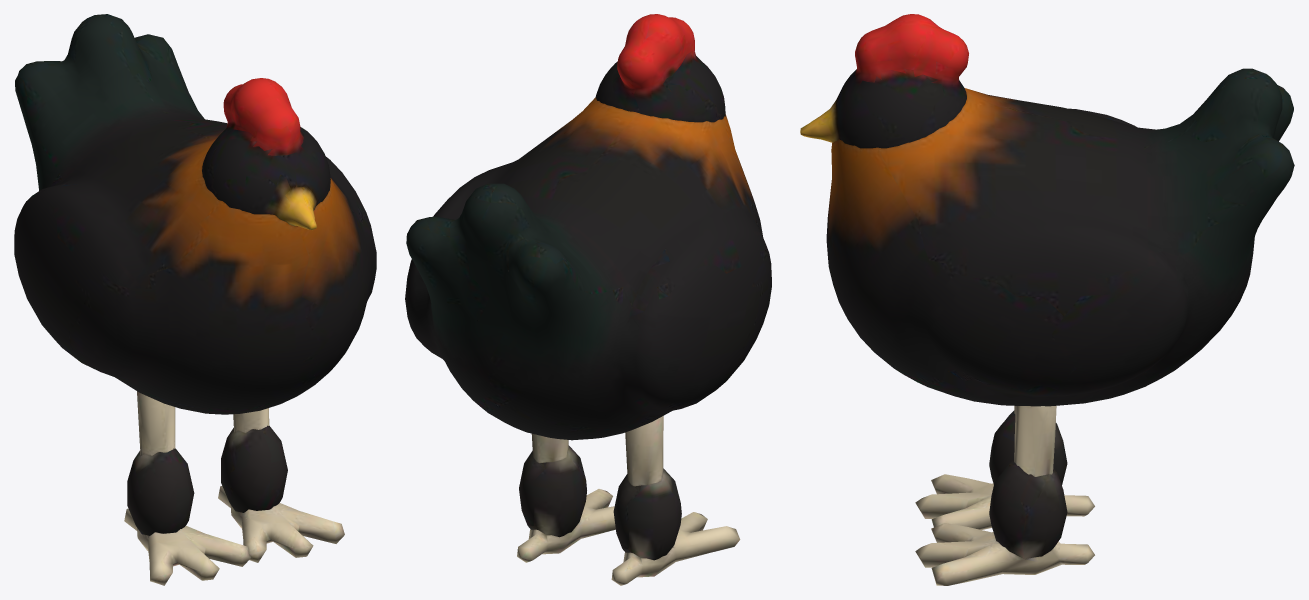
Rendered from animal_marans.glb.
The picture shows the model from 3 angles, left to right: view 1: azimuth 30°, elevation 25°; view 2: azimuth 150°, elevation 25°; view 3: azimuth 270°, elevation 25°; orthographic projection. The views are drawn at different scales.
Visible parts, largest first — view 1: animal_marans, head, leg0, leg1; view 2: animal_marans, leg0, head, leg1; view 3: animal_marans, head, leg1, leg0.
Part boxes in pixels (x1=…): animal_marans: x1=14, y1=14, x2=376, y2=414; head: x1=202, y1=78, x2=330, y2=230; leg0: x1=124, y1=391, x2=251, y2=585; leg1: x1=218, y1=408, x2=344, y2=562; animal_marans: x1=405, y1=97, x2=771, y2=440; leg0: x1=611, y1=416, x2=740, y2=585; head: x1=595, y1=14, x2=725, y2=122; leg1: x1=517, y1=433, x2=615, y2=562; animal_marans: x1=826, y1=68, x2=1294, y2=406; head: x1=800, y1=14, x2=968, y2=148; leg1: x1=915, y1=405, x2=1094, y2=585; leg0: x1=915, y1=406, x2=1094, y2=529.
Size of the model in its own units: 0.1847 by 0.3066 by 0.2577.
1 material, 1 textured.
